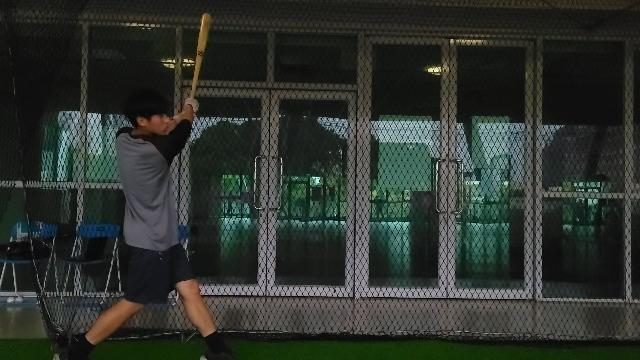baseball bat: (188, 12, 214, 100)
